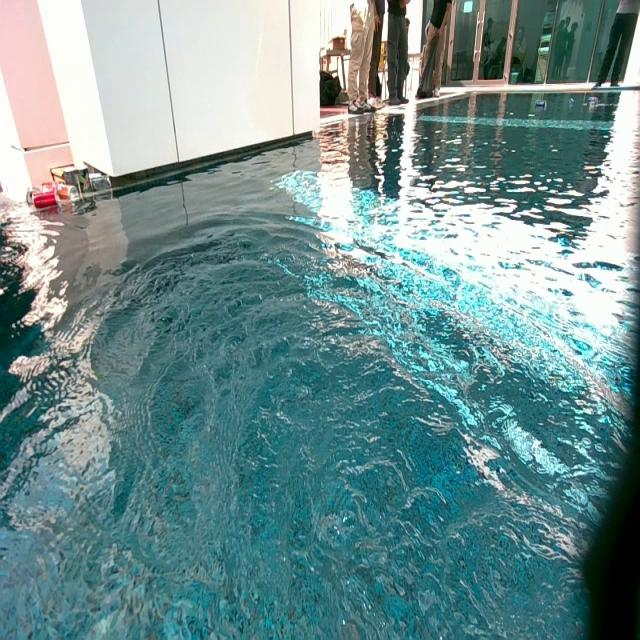Cans: (535, 99, 546, 110), (590, 97, 600, 105), (568, 98, 574, 106)
